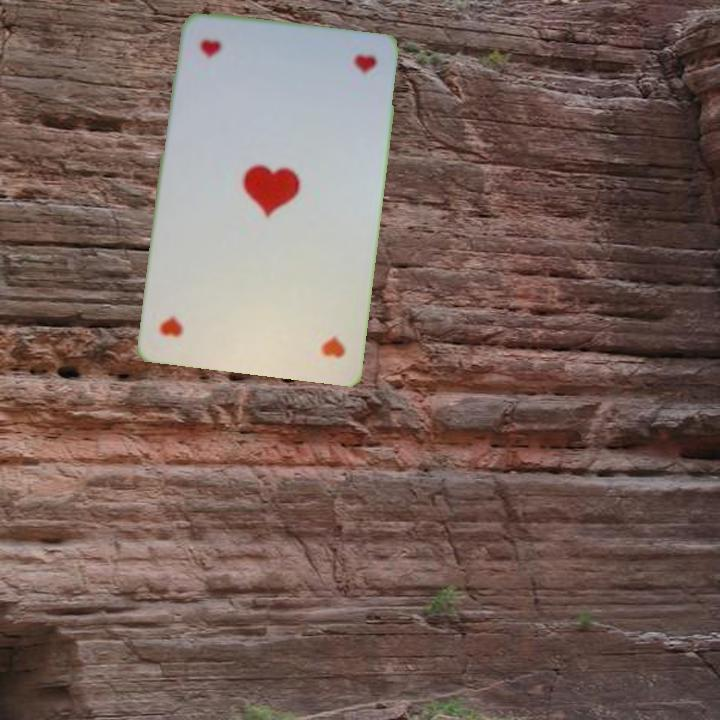h_a.png: (182, 27, 291, 124), (247, 273, 356, 370)
